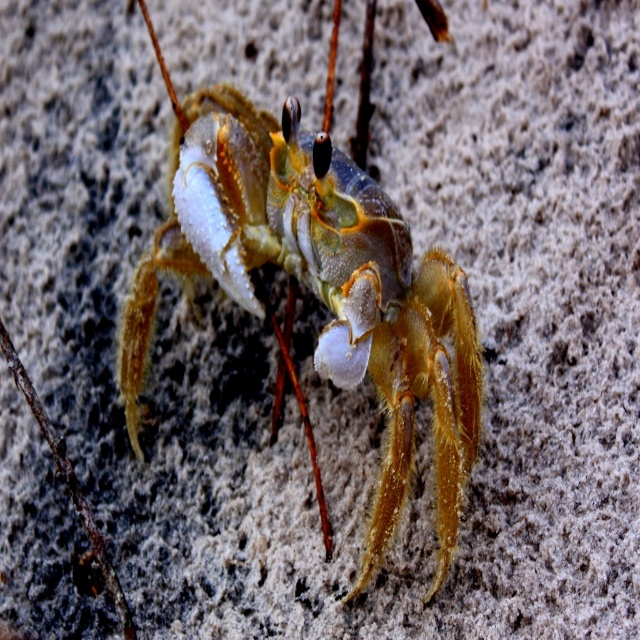Crab: (117, 0, 488, 604)
